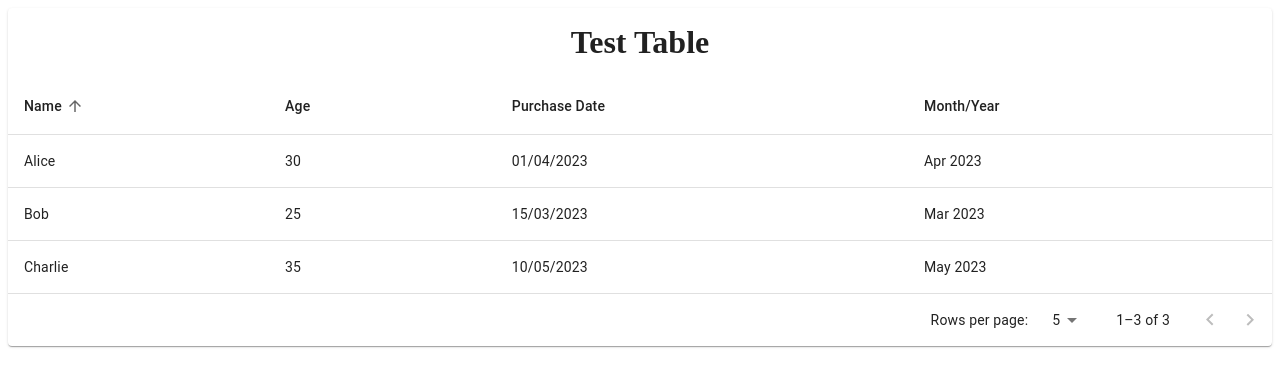
Scenario: EnhancedTable › sorts by purchaseDate column correctly
Click the button "Purchase Date" at {"x": 558, "y": 106}, box [512,98,605,114]
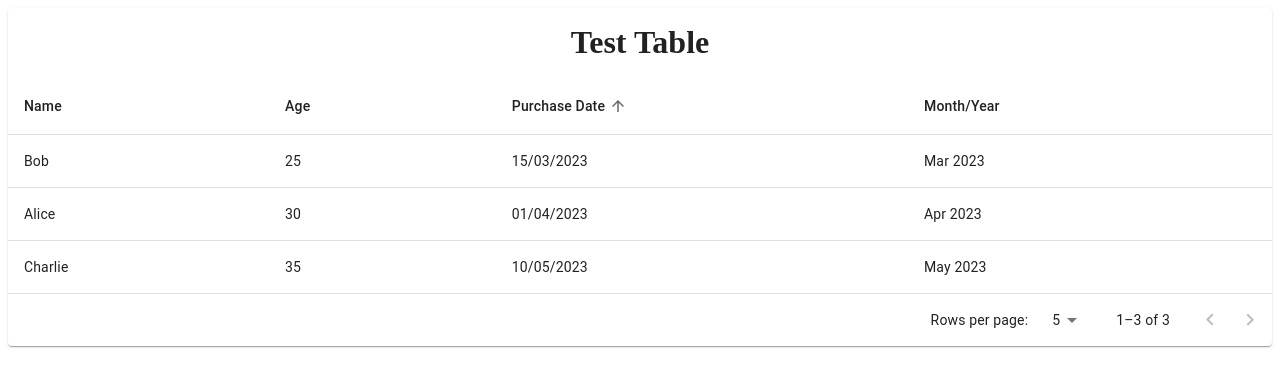
Expected: the row "Bob 25 15/03/2023 Mar 2023" is shown, [8,135,1272,188]
Click the button "Purchase Date" at {"x": 571, "y": 106}, box [512,94,631,118]
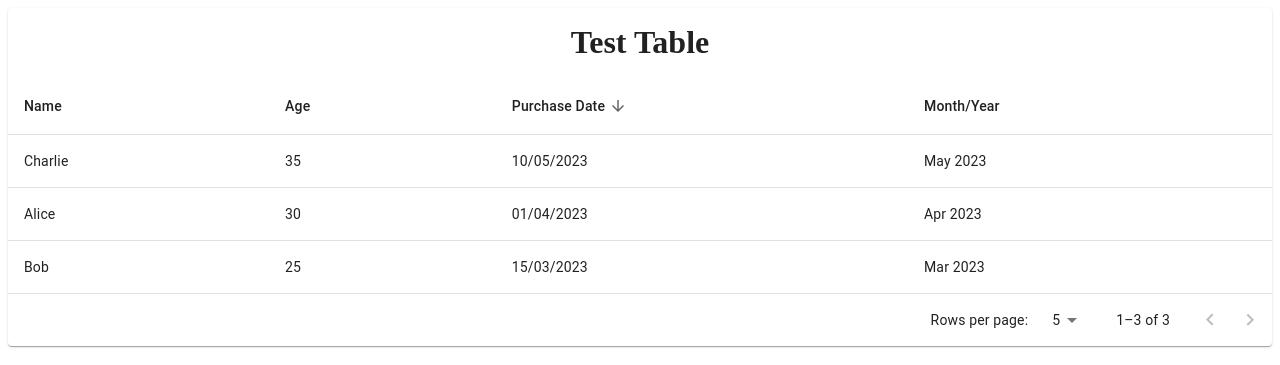
Expected: the row "Charlie 35 10/05/2023 May 2023" is shown, [8,135,1272,188]
